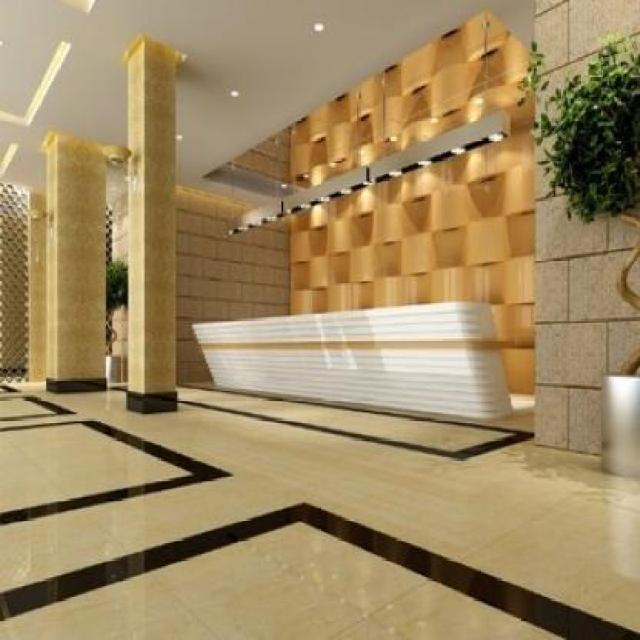frontdesk: (189, 291, 518, 407)
